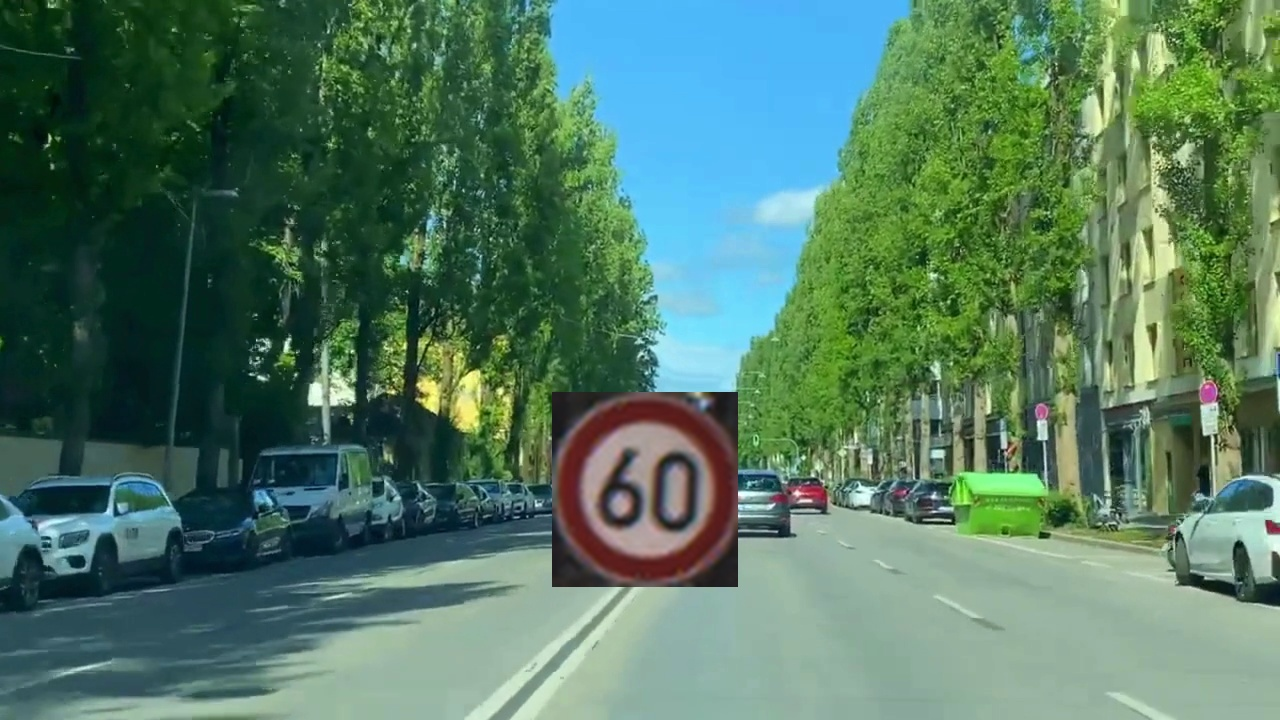Speed 60: (552, 392, 738, 587)
